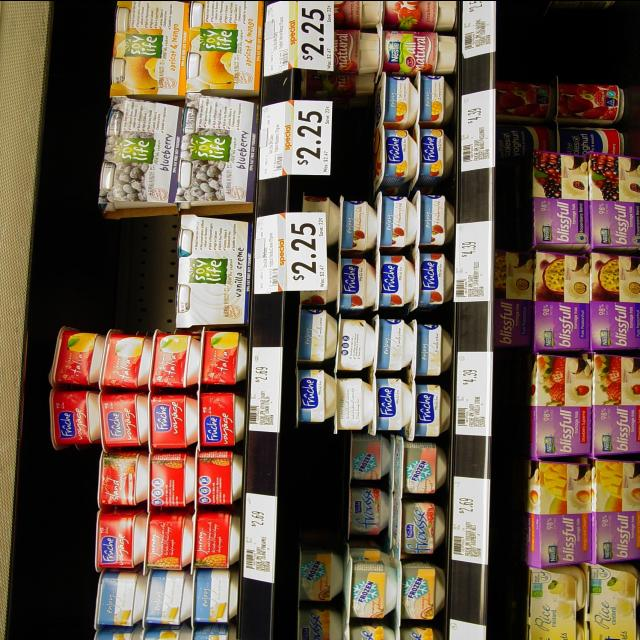empty_space: (48, 222, 164, 318), (524, 9, 634, 67)
